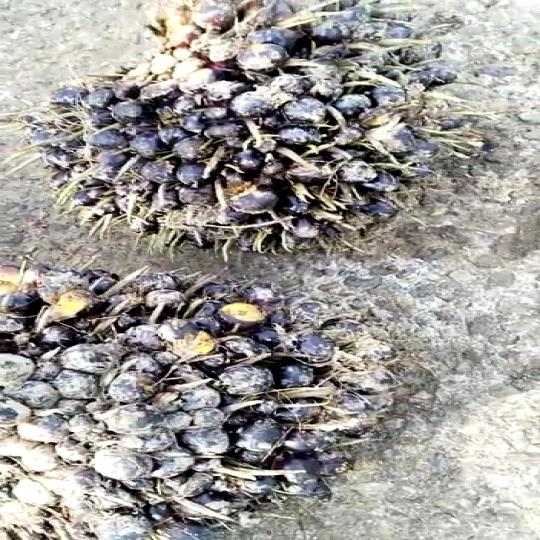mentah: (0, 258, 427, 540), (13, 3, 480, 251)
